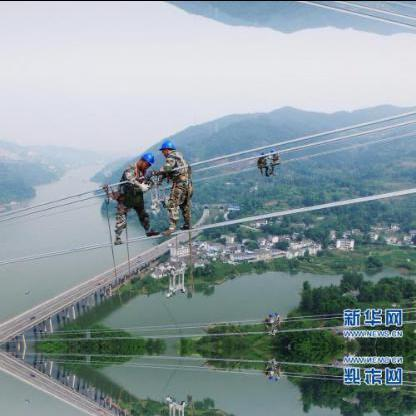Helmet: (135, 148, 153, 168), (157, 138, 175, 156)
